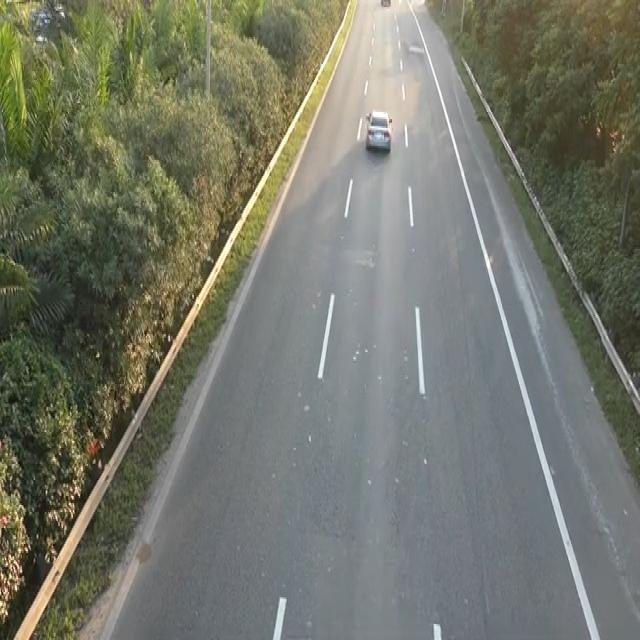bus: (363, 105, 393, 153)
